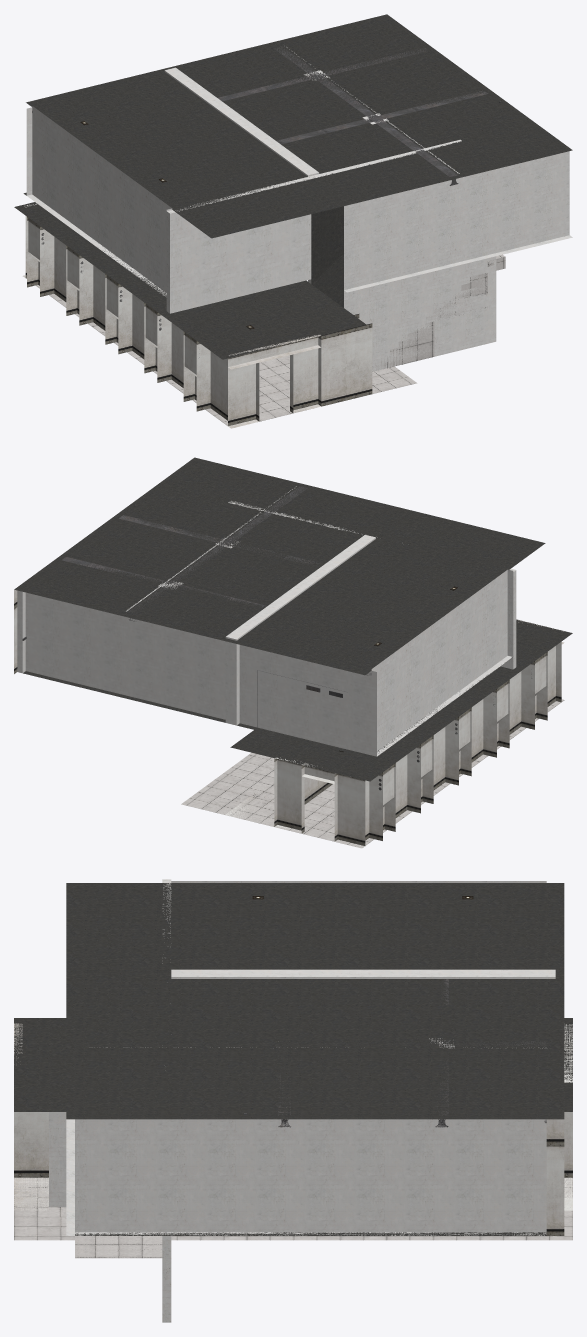
The model's file is LC_room2_sl.glb.
3 renders of one model, top to bottom at view 1: azimuth 30°, elevation 25°; view 2: azimuth 150°, elevation 25°; view 3: azimuth 270°, elevation 25°, orthographic. The views are drawn at different scales.
Visible parts, largest first — view 1: LC_room2_sl; view 2: LC_room2_sl; view 3: LC_room2_sl.
Part boxes in pixels (box(x1,y1,x2,y2)): LC_room2_sl: box(14, 14, 572, 428); LC_room2_sl: box(14, 457, 572, 848); LC_room2_sl: box(14, 879, 572, 1322).
Bounding box in the file's own units: 20.96 × 10.24 × 20.48.
Materials: 13 (13 with a texture image).
